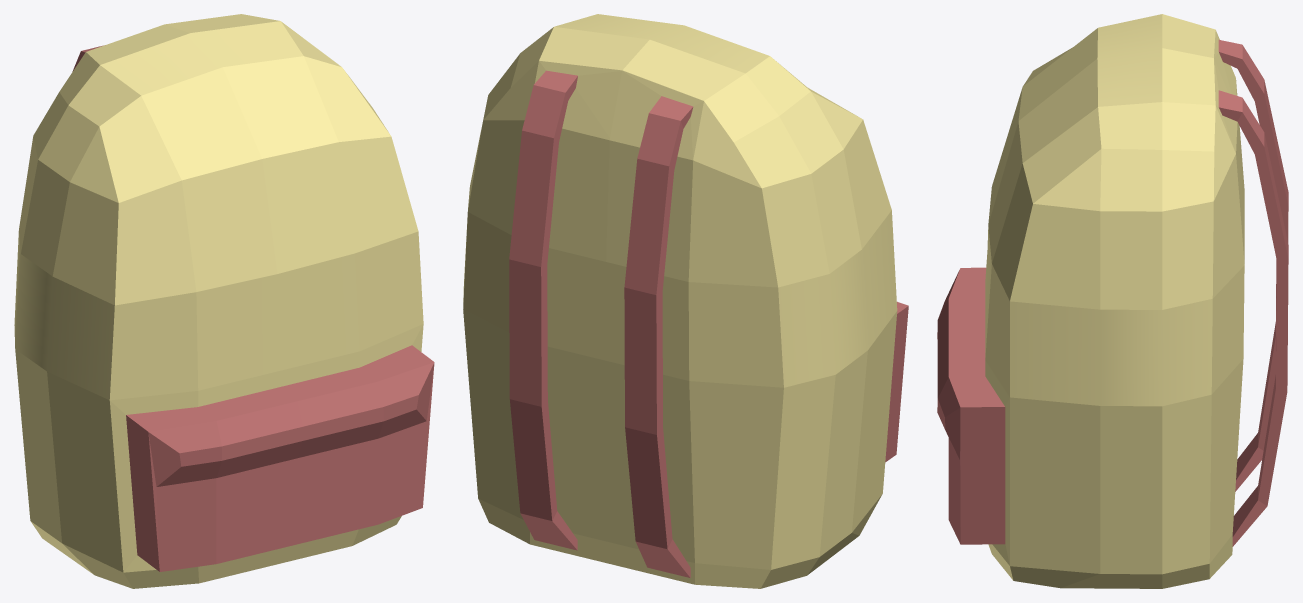
The model's file is Mochila.FBX.
The picture shows the model from 3 angles, left to right: view 1: azimuth 30°, elevation 25°; view 2: azimuth 150°, elevation 25°; view 3: azimuth 270°, elevation 25°; orthographic projection. The views are drawn at different scales.
Visible parts, largest first — view 1: Box003; view 2: Box003; view 3: Box003.
Part boxes in pixels (left/top/right/bottom): Box003: left=14, top=14, right=434, bottom=588; Box003: left=463, top=14, right=908, bottom=588; Box003: left=937, top=14, right=1288, bottom=588.
Bounding box in the file's own units: 98.68 × 126 × 85.71.
